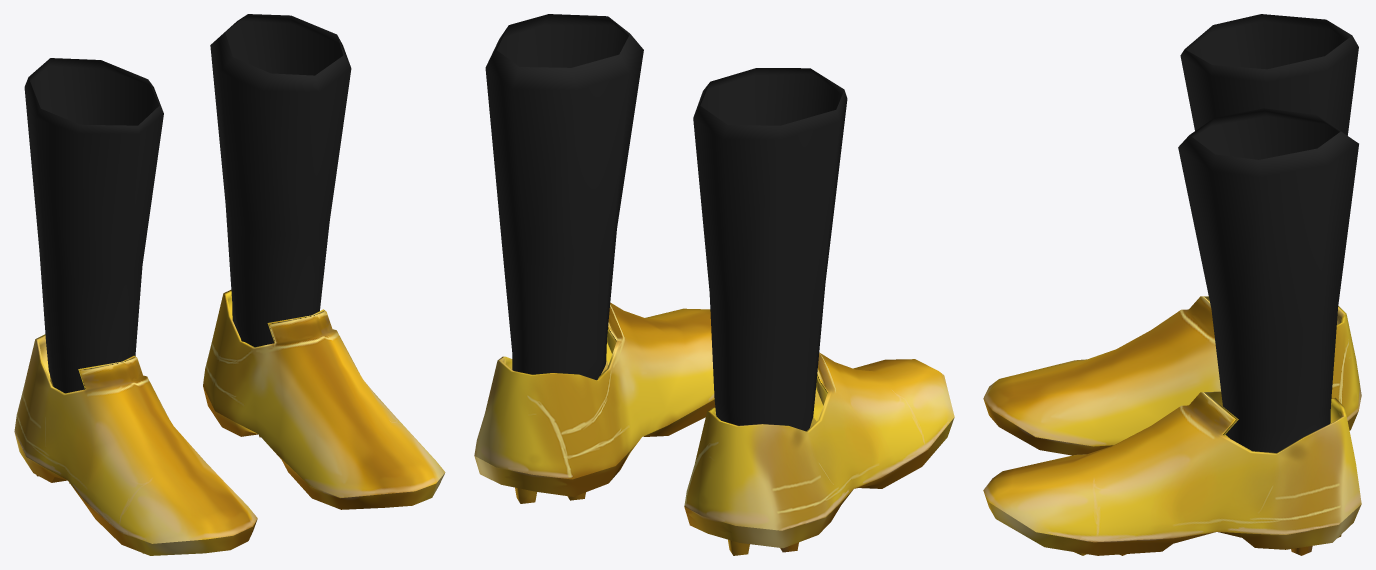
The model's file is omd-shoes.glb.
The picture shows the model from 3 angles, left to right: view 1: azimuth 30°, elevation 25°; view 2: azimuth 150°, elevation 25°; view 3: azimuth 270°, elevation 25°; orthographic projection. The views are drawn at different scales.
Visible parts, largest first — view 1: M_golfcraft_shoes; view 2: M_golfcraft_shoes; view 3: M_golfcraft_shoes.
Part boxes in pixels (x1,y1,x2,y2): M_golfcraft_shoes: (14, 14, 445, 555); M_golfcraft_shoes: (474, 14, 954, 555); M_golfcraft_shoes: (983, 14, 1361, 555).
Size of the model in its own units: 0.5876 by 0.718 by 0.6069.
2 materials, 2 textured.
